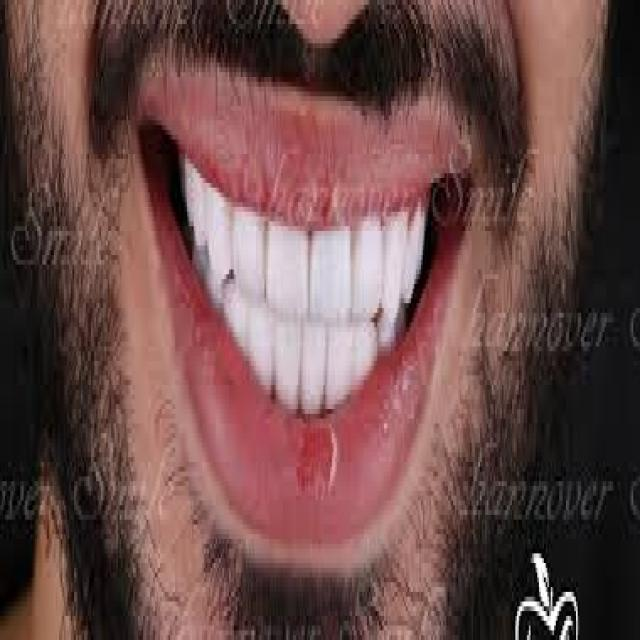tooth: (268, 221, 308, 308), (312, 231, 350, 322), (355, 222, 384, 318), (236, 212, 264, 294), (326, 327, 354, 404), (276, 322, 300, 404), (305, 336, 325, 418), (212, 193, 231, 279), (249, 318, 273, 385), (391, 202, 404, 313), (226, 294, 246, 351), (357, 332, 379, 375), (184, 159, 194, 231), (410, 212, 420, 284), (199, 178, 205, 245), (423, 207, 428, 269), (382, 327, 392, 351), (214, 289, 224, 308)
